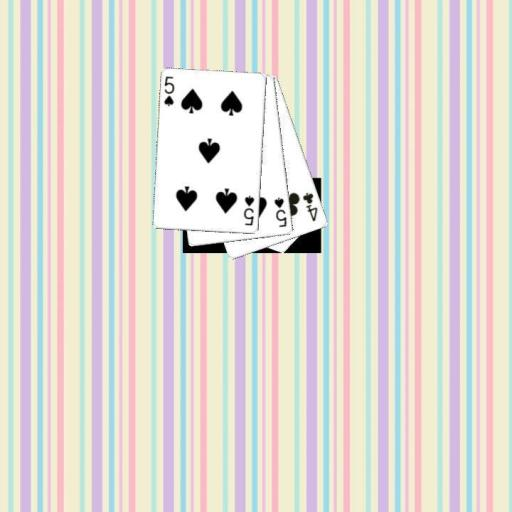card-corner: (300, 189, 319, 223), (240, 192, 256, 228), (272, 194, 288, 229), (162, 73, 176, 108)
